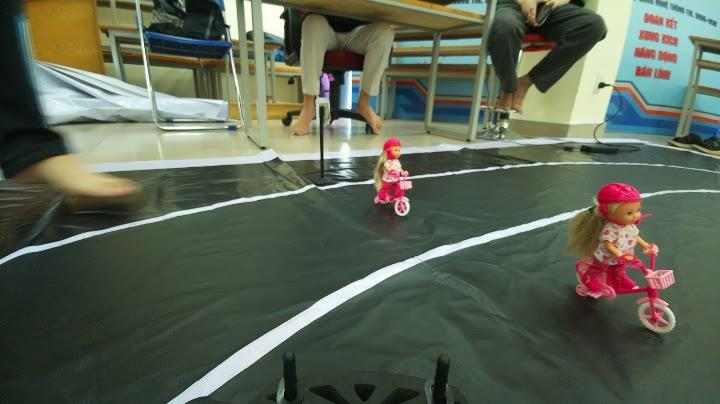pedestrian: (566, 173, 682, 340), (368, 136, 417, 216)
